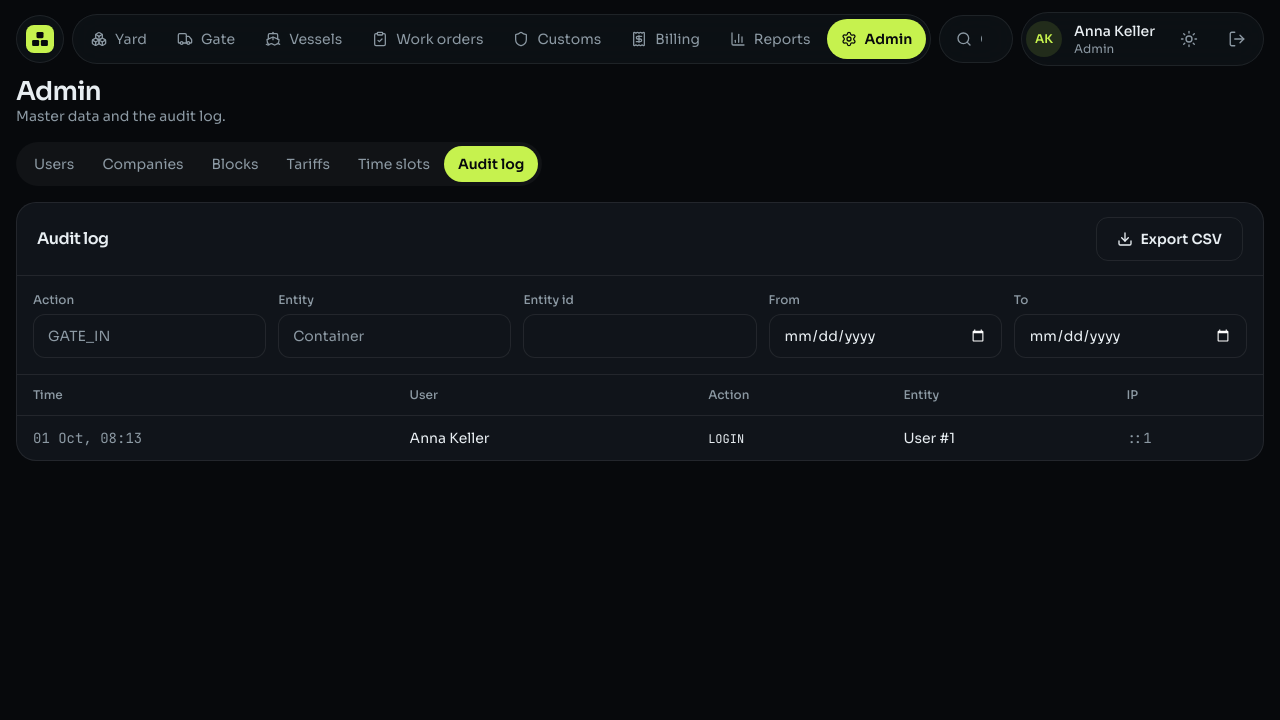
Test: admin › filters the audit log and exports the same filter
Type "LOGIN" into the field labelled "Action" at (150, 336), box top-left (33, 314), bottom-right (266, 358)
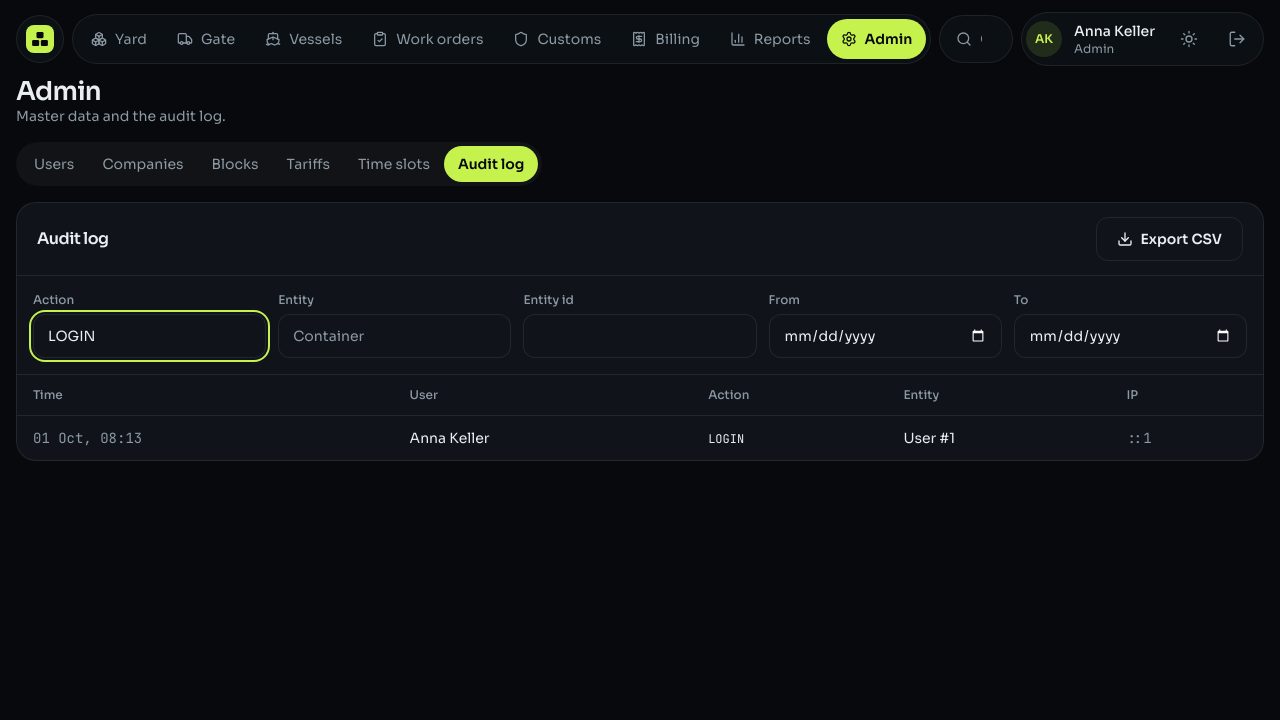
Click the text "User #1" at (929, 438), box top-left (887, 416), bottom-right (1110, 460)
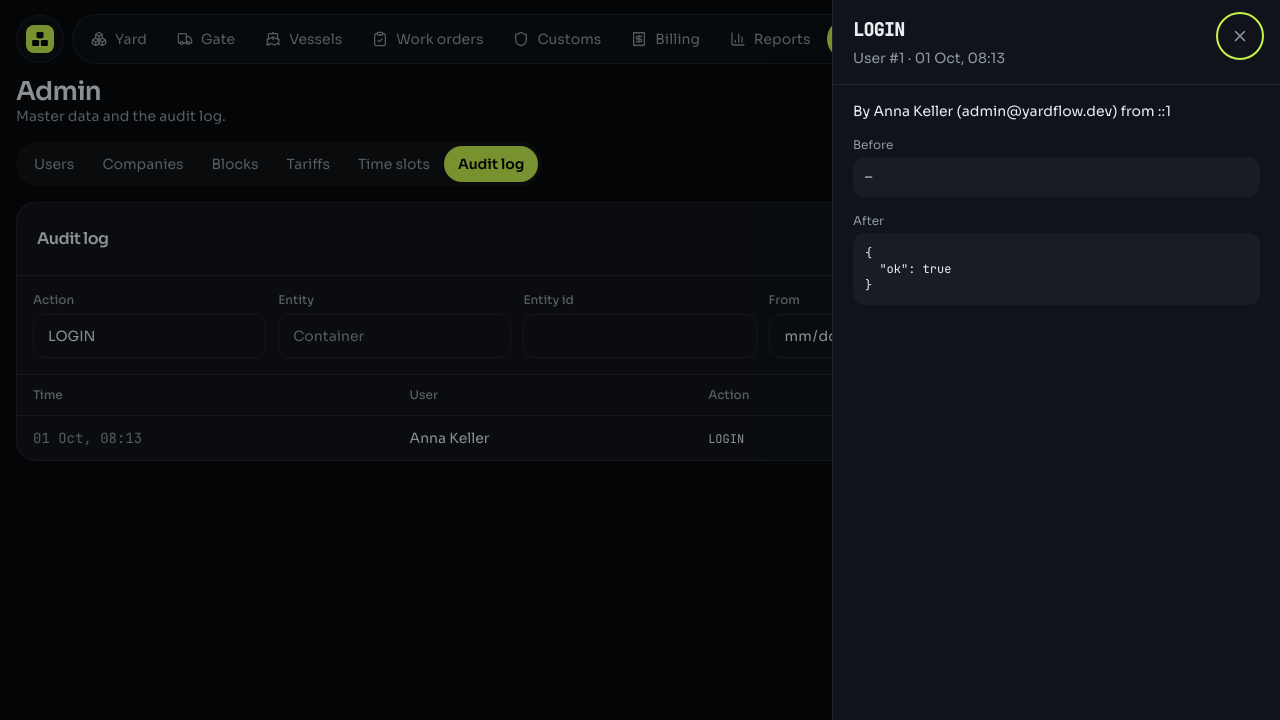
Result: the dialog "LOGIN" shows "\"ok\": true" at top-left (865, 245), bottom-right (951, 293)
